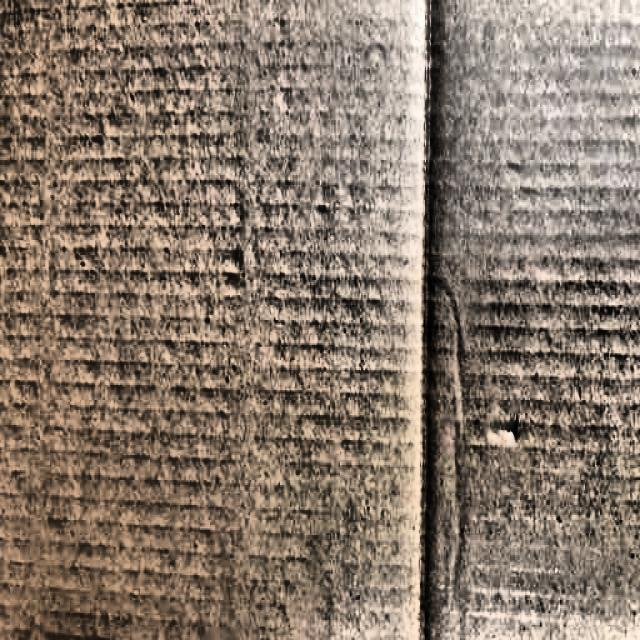cardboard: (6, 13, 637, 631)
